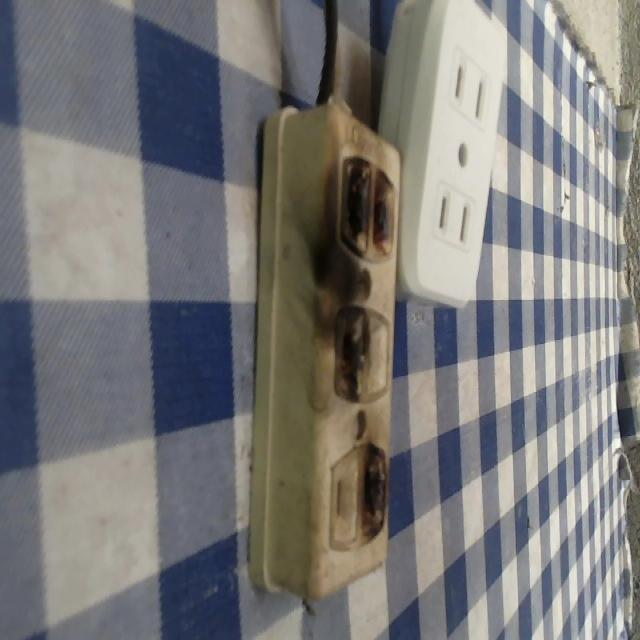-: (335, 151, 399, 257), (327, 301, 374, 412), (353, 440, 397, 537)
